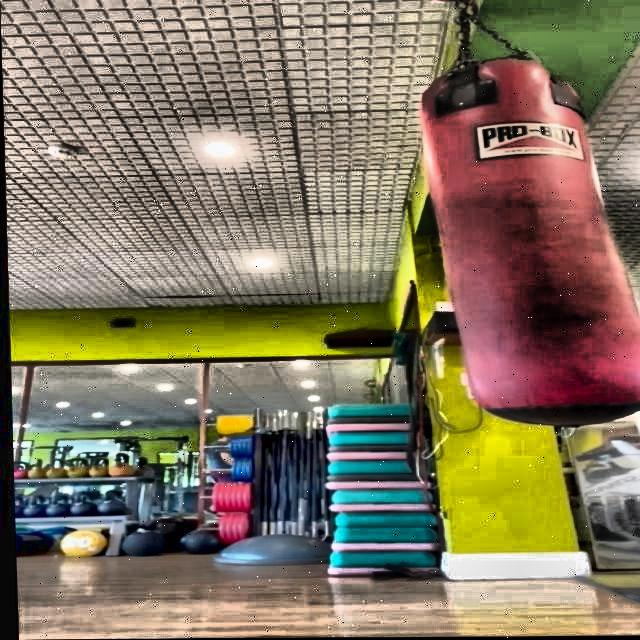boxing-bag: (420, 0, 640, 427)
